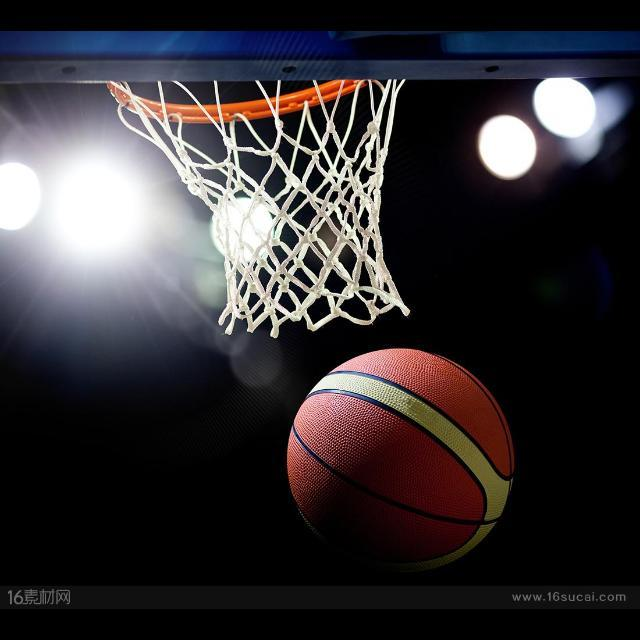basketball: (290, 349, 514, 573)
